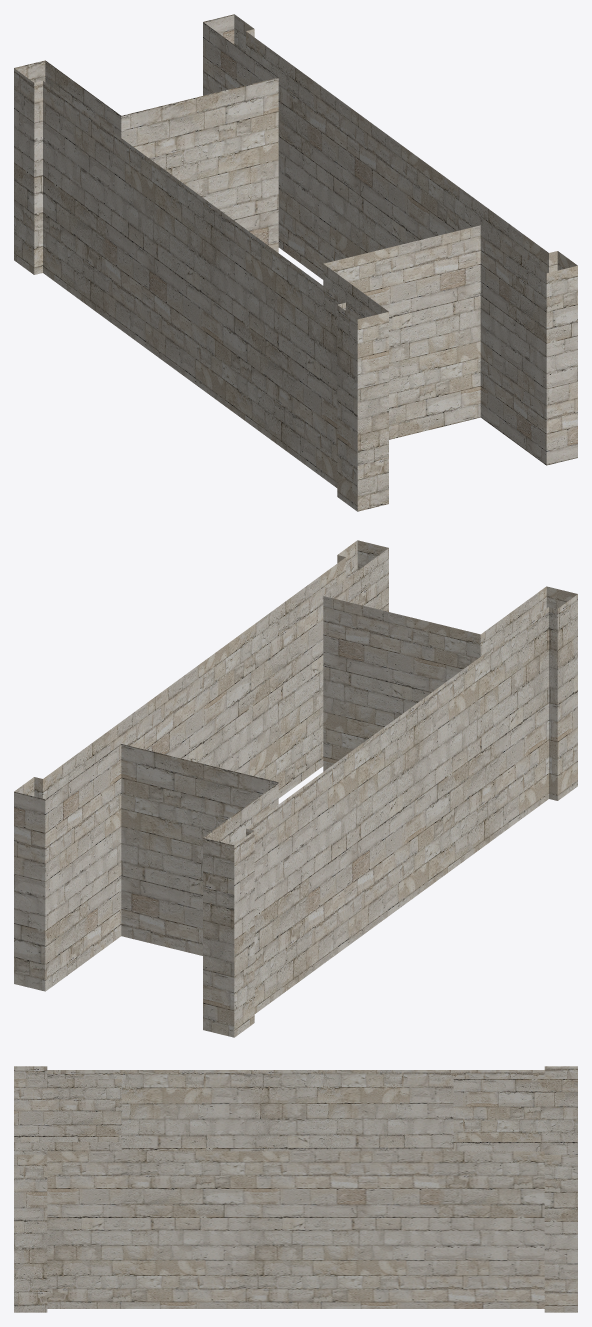
File: parth_walls.dae
3 views of the same model, one above another, from view 1: azimuth 30°, elevation 25°; view 2: azimuth 150°, elevation 25°; view 3: azimuth 270°, elevation 25° (orthographic). The views are drawn at different scales.
Parts seen in each view (by area): view 1: par_main-Pivot; view 2: par_main-Pivot; view 3: par_main-Pivot.
Boxes of the visible parts, x1,y1,x2,y2 form: par_main-Pivot: (14,14,577,511); par_main-Pivot: (14,540,577,1037); par_main-Pivot: (14,1066,577,1312).
Size of the model in its own units: 14.02 by 37.83 by 11.68.
